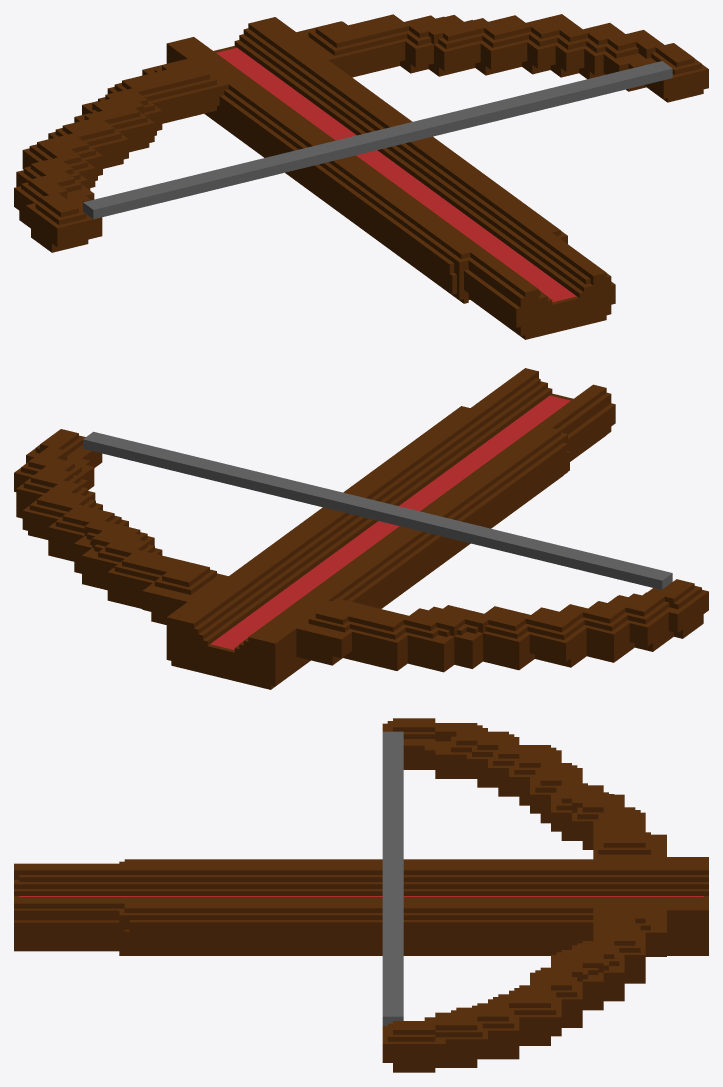
The model's file is crossbow.obj.
3 views of the same model, one above another, from view 1: azimuth 30°, elevation 25°; view 2: azimuth 150°, elevation 25°; view 3: azimuth 270°, elevation 25° (orthographic).
Size of the model in its own units: 14.4 by 1.2 by 13.2.
Materials: 1 (1 with a texture image).
